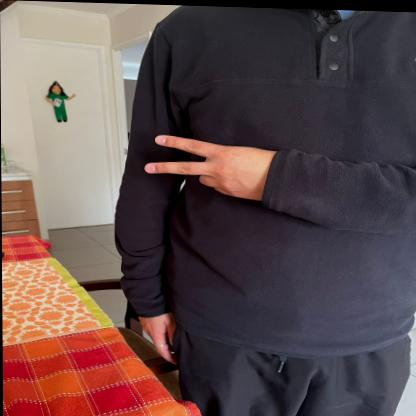H: (139, 127, 294, 206)
